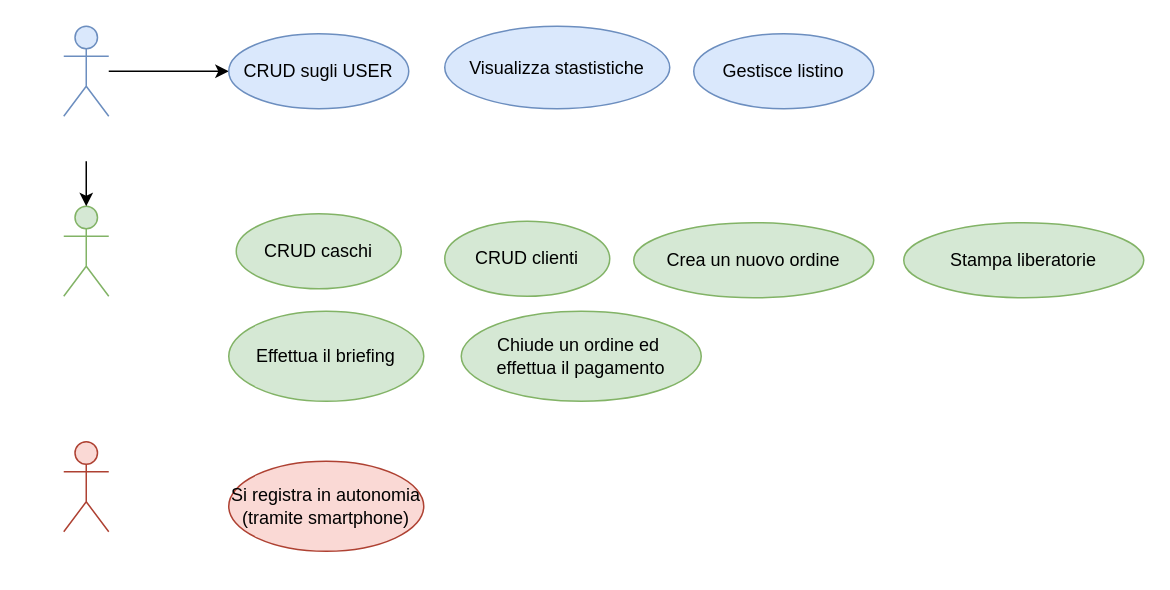
This 1170x590 diagram has some shape labels left out. The shapes that lost their labels are listed below. From the top down, each one's centre as x and y in pixels, then its label:
At point 85,70: "ADMIN".
At point 85,250: "USER (addetto parco)".
At point 85,486: "CUSTOMER".
